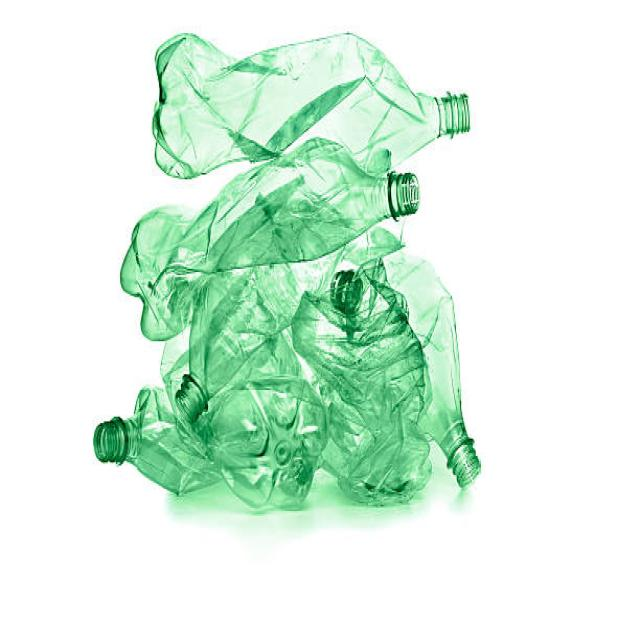plastic: (91, 218, 484, 498), (148, 30, 479, 178)
